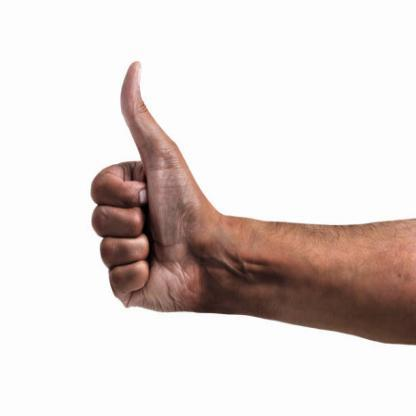thumb_up: (88, 52, 204, 314)
